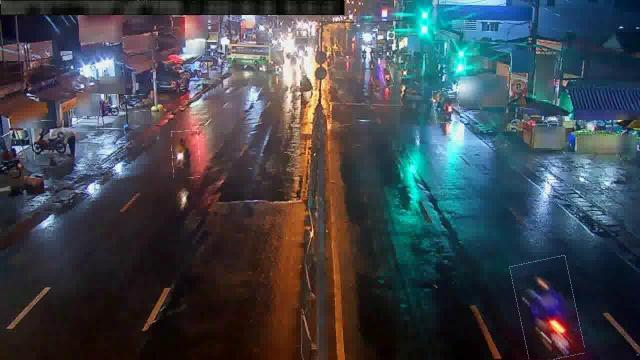Bike: (514, 257, 580, 359), (172, 130, 200, 178), (34, 121, 64, 160), (433, 89, 459, 123), (120, 95, 150, 112), (382, 64, 392, 88)
